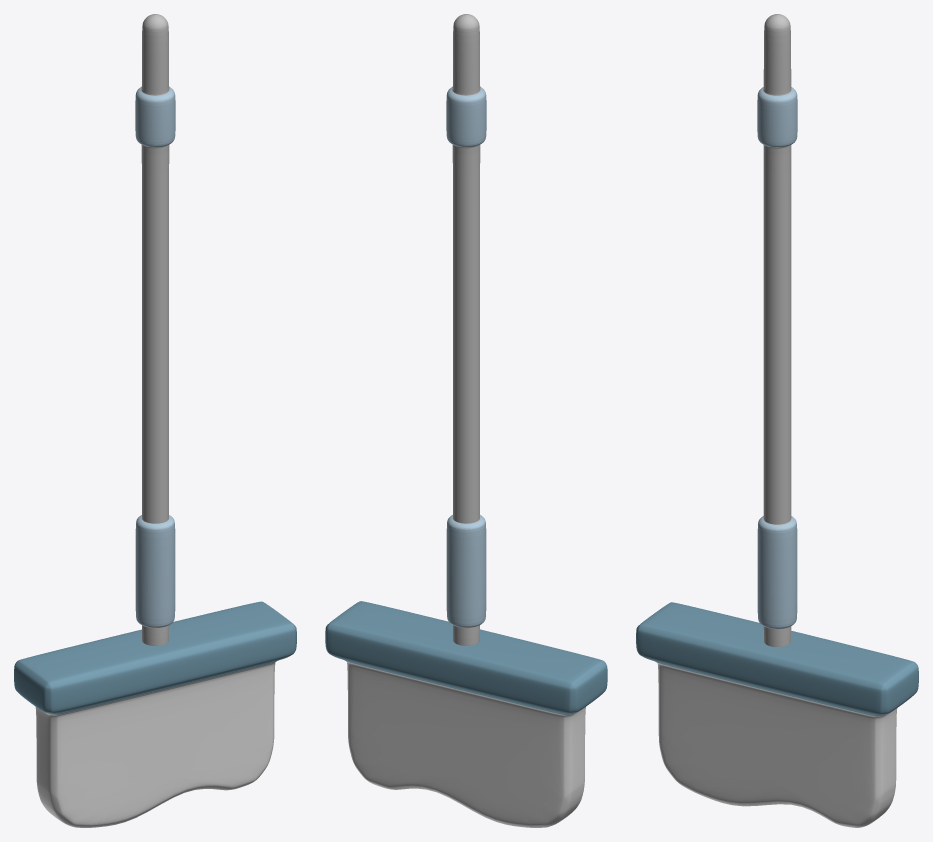
File: Sponge-Mop.fbx
The picture shows the model from 3 angles, left to right: view 1: azimuth 30°, elevation 25°; view 2: azimuth 150°, elevation 25°; view 3: azimuth 330°, elevation 25°; orthographic projection.
Parts seen in each view (by area): view 1: Sponge-Mop, Mop-Handle; view 2: Sponge-Mop, Mop-Handle; view 3: Sponge-Mop, Mop-Handle.
Part boxes in pixels (<box>): Sponge-Mop: <box>14,601,296,827</box>; Mop-Handle: <box>135,14,175,645</box>; Sponge-Mop: <box>325,601,607,827</box>; Mop-Handle: <box>446,14,486,645</box>; Sponge-Mop: <box>636,602,918,827</box>; Mop-Handle: <box>757,14,797,646</box>.
Bounding box in the file's own units: 76.86 × 230 × 19.63.
